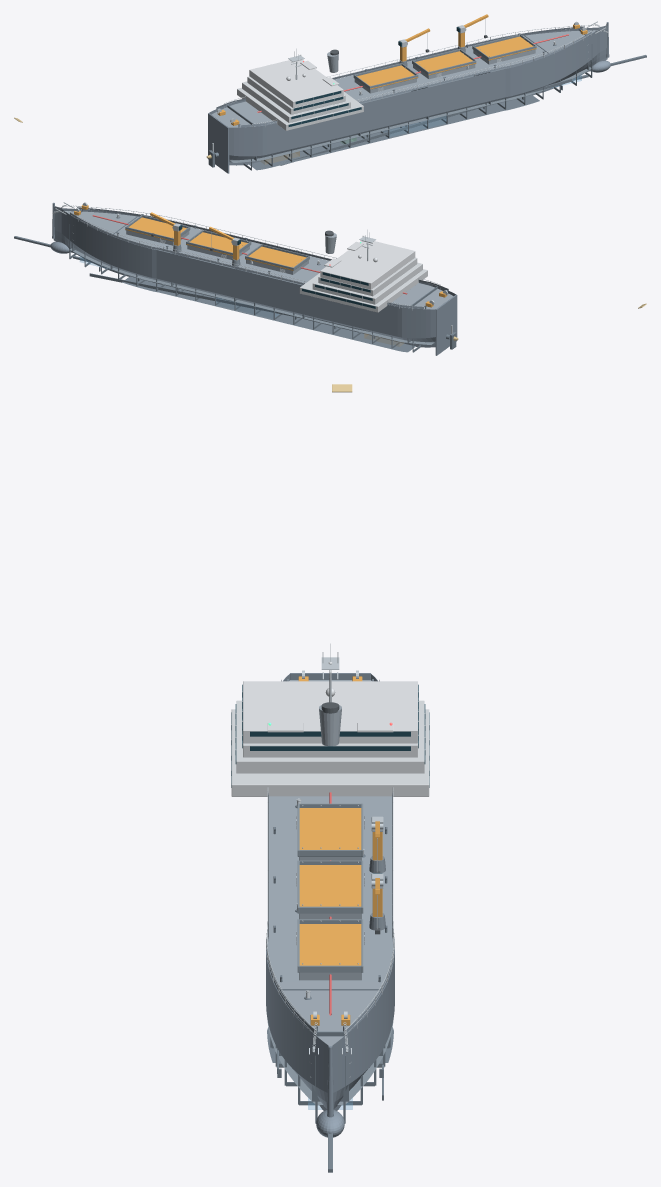
Rendered from ship-blender.glb.
3 views of the same model, one above another, from view 1: azimuth 30°, elevation 25°; view 2: azimuth 150°, elevation 25°; view 3: azimuth 270°, elevation 25° (orthographic). The views are drawn at different scales.
Visible parts, largest first — view 1: 船体外壳, 主甲板, 甲板室第4层, 双层底板, 舷墙, 甲板室第1层, 内底板, 甲板室第2层, 艉封板, 舭龙骨 S, 舱盖板 1, 舱盖板 2 (+8 smaller); view 2: 船体外壳, 主甲板, 甲板室第4层, 双层底板, 舷墙, 甲板室第1层, 内底板, 艉封板, 甲板室第2层, 舭龙骨 P, 舱盖板 1, 甲板室第3层 (+8 smaller); view 3: 主甲板, 甲板室第4层, 船体外壳, 甲板室第1层, 甲板室第2层, 舱盖板 1, 舱盖板 2, 舱盖板 3, 甲板室第3层.
Part boxes in pixels (x1=…): 船体外壳: x1=209, y1=25, x2=607, y2=165; 主甲板: x1=211, y1=30, x2=596, y2=127; 甲板室第4层: x1=249, y1=59, x2=343, y2=107; 双层底板: x1=248, y1=95, x2=539, y2=170; 舷墙: x1=216, y1=26, x2=591, y2=127; 甲板室第1层: x1=237, y1=87, x2=363, y2=130; 内底板: x1=230, y1=67, x2=591, y2=162; 甲板室第2层: x1=242, y1=81, x2=350, y2=122; 艉封板: x1=208, y1=113, x2=229, y2=173; 舭龙骨 S: x1=280, y1=78, x2=571, y2=165; 舱盖板 1: x1=357, y1=65, x2=417, y2=89; 舱盖板 2: x1=415, y1=51, x2=476, y2=74; 船体外壳: x1=53, y1=206, x2=456, y2=347; 主甲板: x1=65, y1=211, x2=453, y2=309; 甲板室第4层: x1=320, y1=240, x2=415, y2=289; 双层底板: x1=122, y1=276, x2=415, y2=352; 舷墙: x1=70, y1=207, x2=448, y2=308; 甲板室第1层: x1=299, y1=269, x2=427, y2=312; 内底板: x1=70, y1=248, x2=434, y2=344; 艉封板: x1=435, y1=294, x2=457, y2=355; 甲板室第2层: x1=312, y1=262, x2=422, y2=304; 舭龙骨 P: x1=89, y1=273, x2=368, y2=331; 舱盖板 1: x1=245, y1=246, x2=306, y2=270; 甲板室第3层: x1=318, y1=257, x2=417, y2=296; 主甲板: x1=267, y1=680, x2=393, y2=1045; 甲板室第4层: x1=243, y1=681, x2=417, y2=743; 船体外壳: x1=266, y1=673, x2=394, y2=1110; 甲板室第1层: x1=231, y1=709, x2=429, y2=796; 甲板室第2层: x1=236, y1=700, x2=424, y2=773; 舱盖板 1: x1=299, y1=808, x2=361, y2=849; 舱盖板 2: x1=299, y1=865, x2=361, y2=906; 舱盖板 3: x1=299, y1=924, x2=361, y2=965; 甲板室第3层: x1=243, y1=743, x2=417, y2=757.
Size of the model in its own units: 323 by 49.44 by 44.38.
